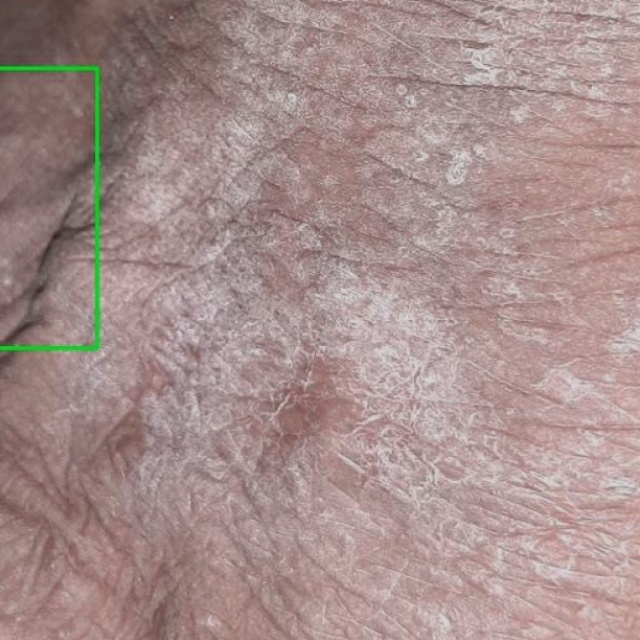Eczema: (0, 68, 97, 347)
